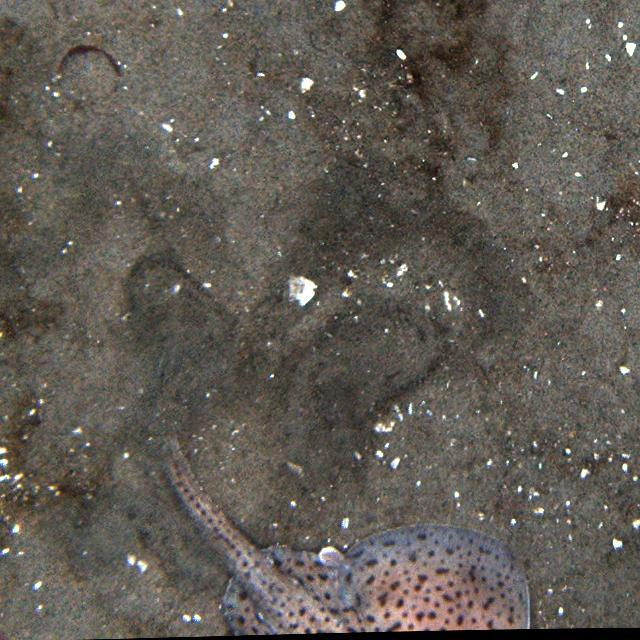skate: (154, 434, 535, 632)
